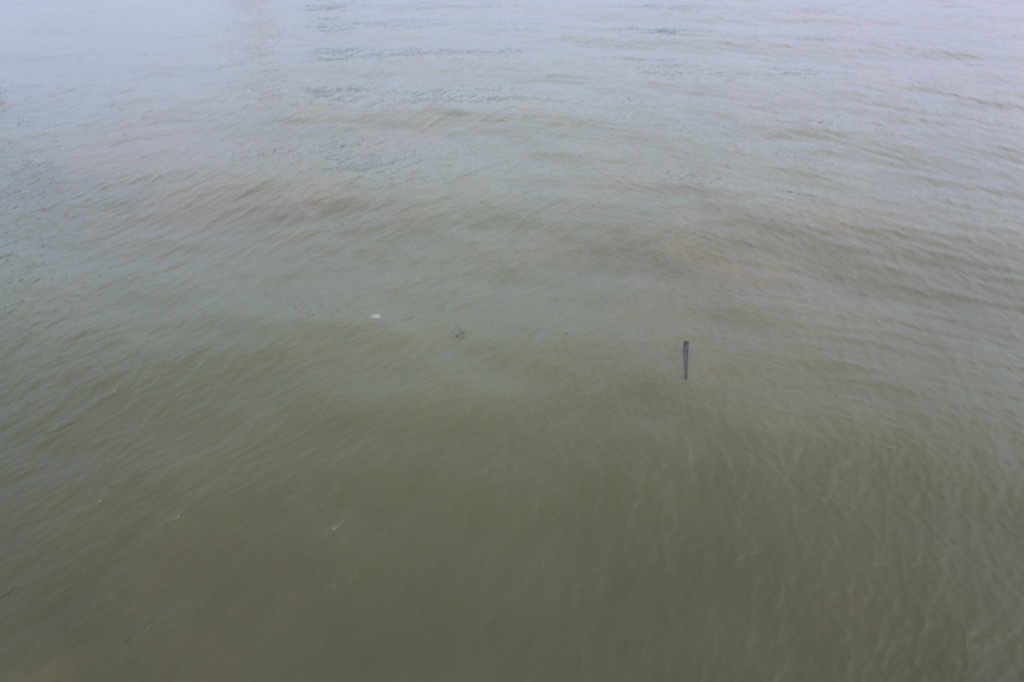organic: (316, 493, 387, 539), (664, 331, 706, 390), (522, 323, 573, 341), (448, 324, 469, 343)
plastic: (367, 309, 383, 323)
